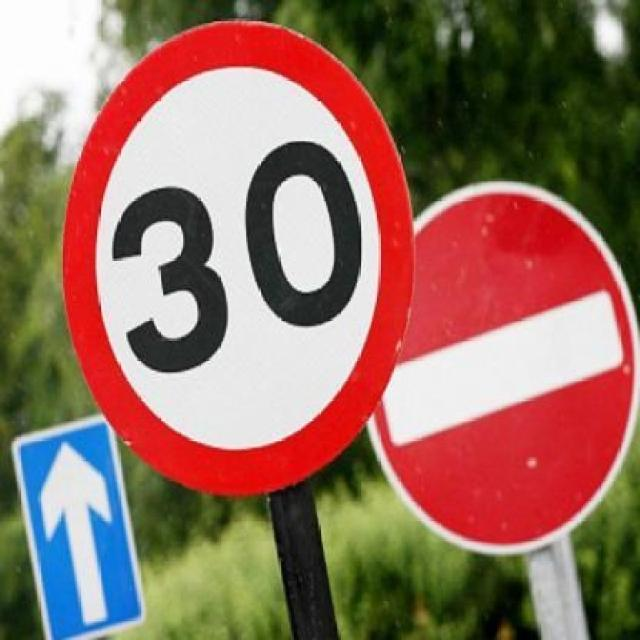forb_speed_over_30: (62, 18, 415, 495)
